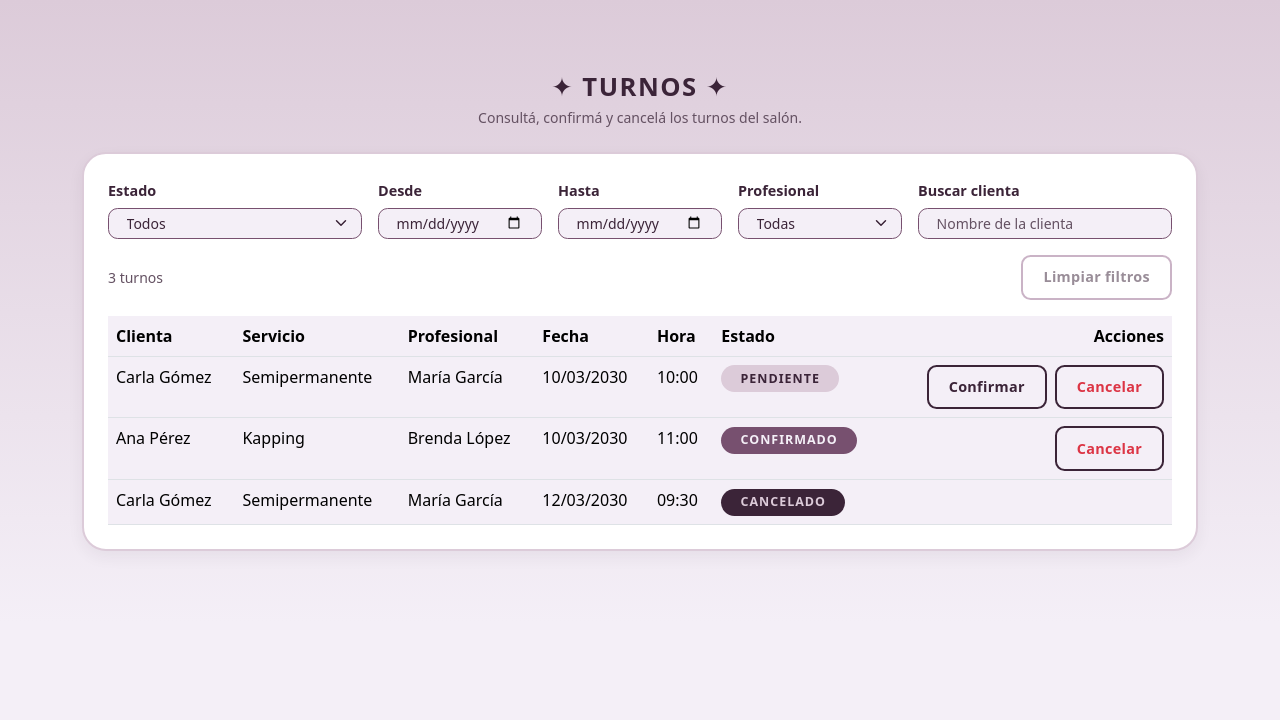
Test: AdminTurnos — filtros combinables › filtra por profesional
Select "Brenda López" in the dropdown labelled "Profesional". click: (820, 223)
box: [738,208,902,239]
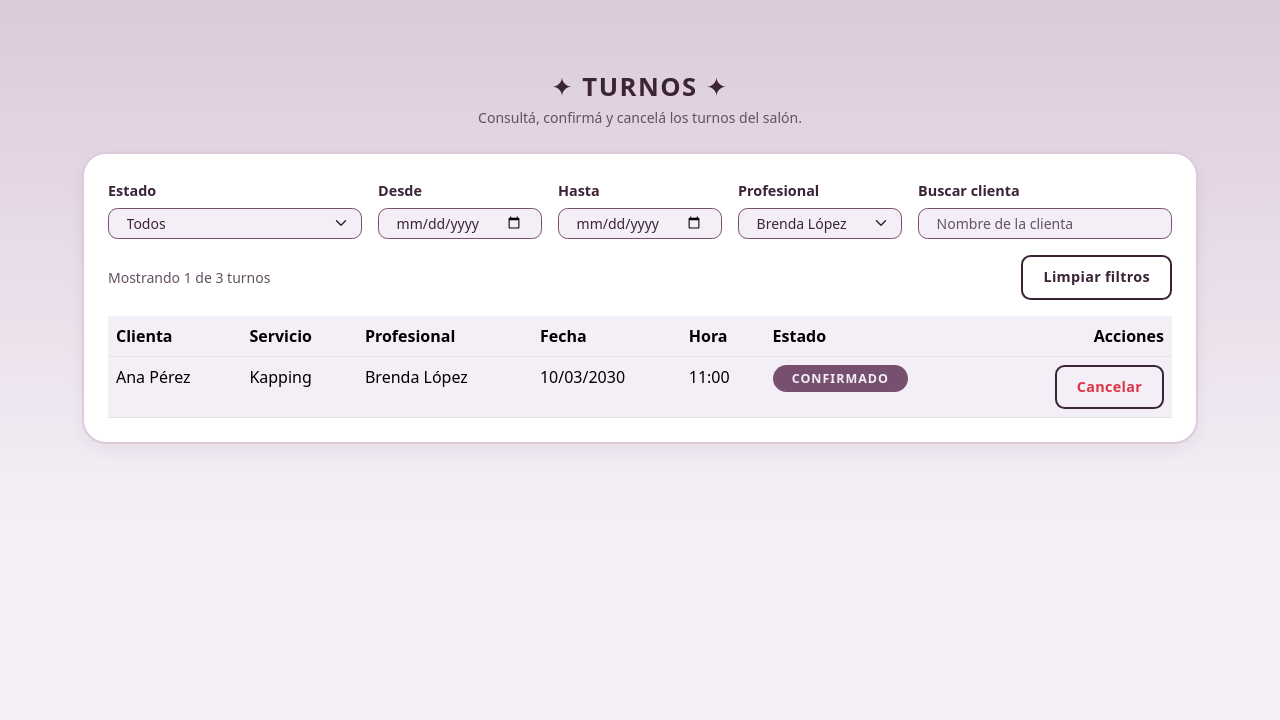
Now the text "Carla Gómez" is gone
Now the text "María García" is gone
Now the text "Mostrando 1 de 3 turnos" is shown, box [108,267,270,288]
